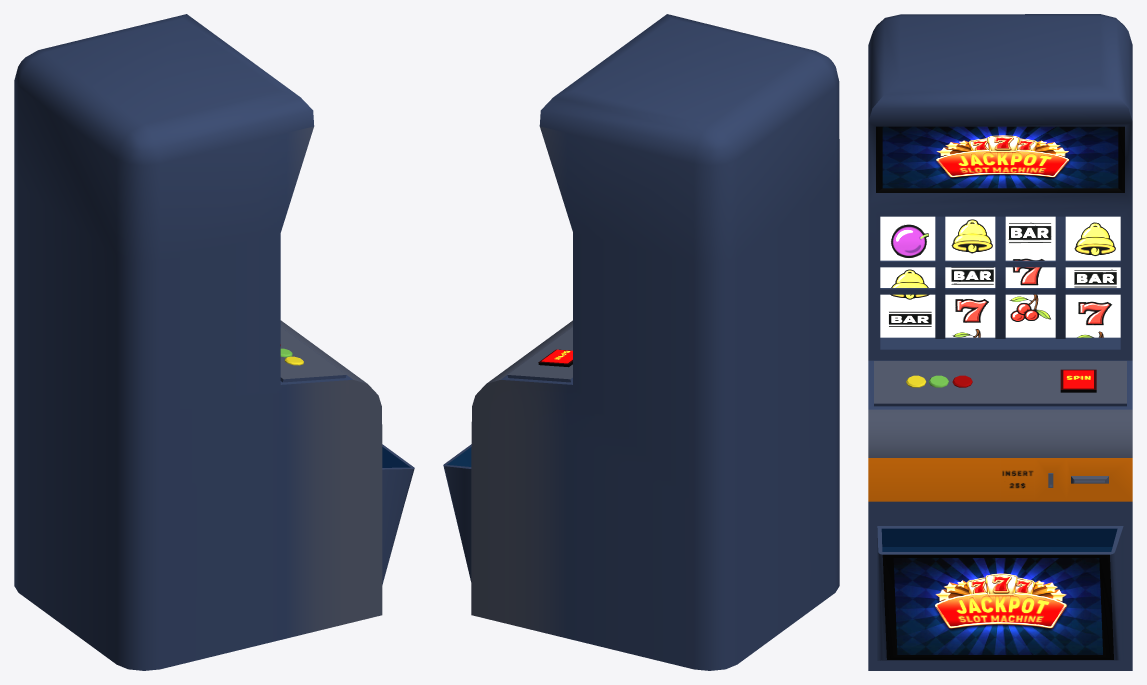
The model's file is low_poly_slot_machine.glb.
3 renders of one model, left to right at view 1: azimuth 30°, elevation 25°; view 2: azimuth 150°, elevation 25°; view 3: azimuth 270°, elevation 25°, orthographic.
Visible parts, largest first — view 1: Jackpot_0; view 2: Jackpot_0; view 3: Jackpot_0.
Part boxes in pixels (x1,y1,x2,y2): Jackpot_0: (14, 14, 414, 670); Jackpot_0: (443, 14, 839, 670); Jackpot_0: (868, 14, 1132, 670).
Size of the model in its own units: 1.13 by 1.99 by 0.8766.
1 material, 1 textured.
